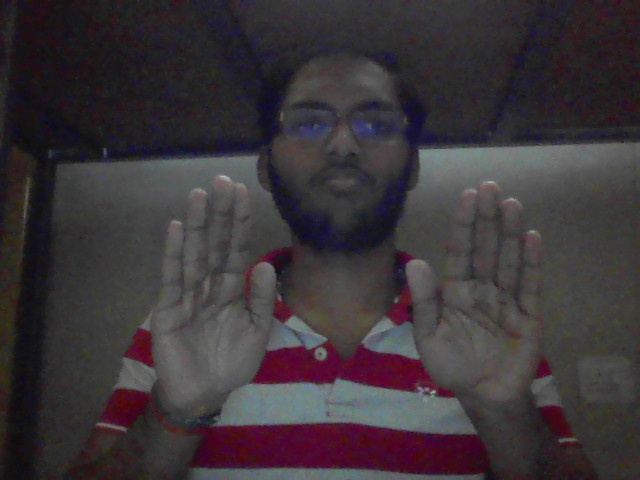God_Bless_You: (124, 156, 552, 431)
